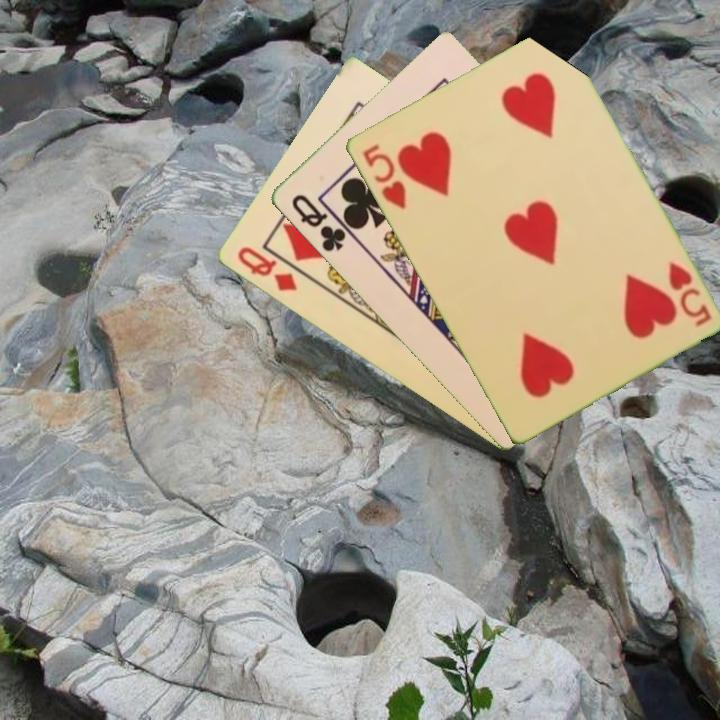5h: (358, 140, 409, 212), (664, 258, 714, 329)
Qc: (287, 190, 349, 255)
Qd: (233, 243, 300, 295)
